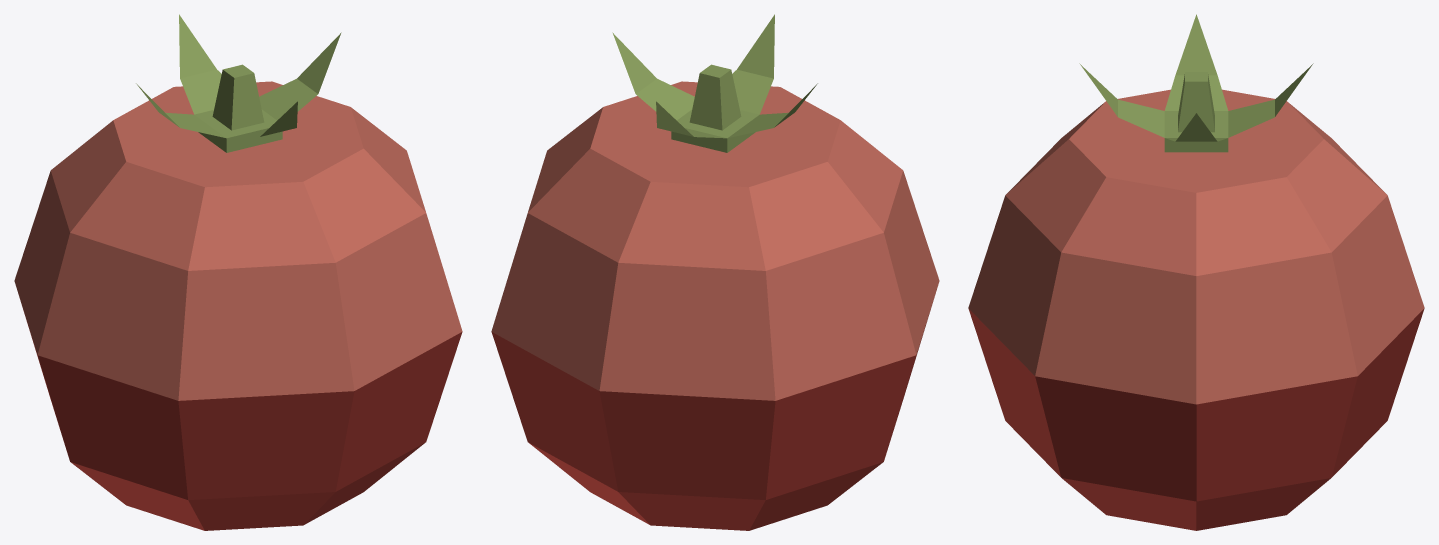
Rendered from tomato.glb.
3 views of the same model, side by side, from view 1: azimuth 30°, elevation 25°; view 2: azimuth 150°, elevation 25°; view 3: azimuth 270°, elevation 25° (orthographic).
Size of the model in its own units: 1 by 1 by 1.
